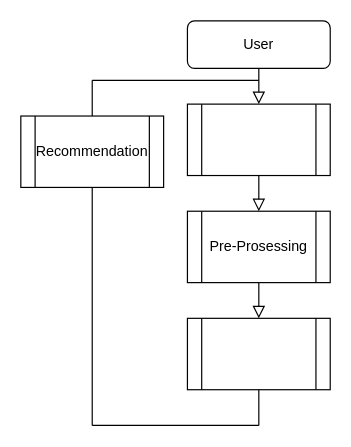
Some shapes in this 351 by 447 pixel diagram are drawn without their labels. The shapes that lost their labels are listed below. From the top down, each one's centre as x and y in pixels, then its label:
point (258, 139): Lifelog Collect
point (258, 353): Machine Learning
